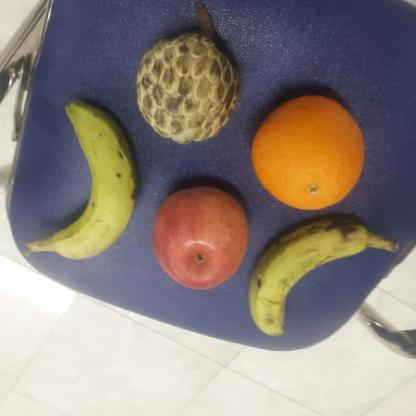annona: (132, 29, 247, 143)
apple: (150, 183, 252, 290)
banana: (245, 215, 370, 340), (47, 98, 139, 263)
orange: (250, 92, 370, 215)
